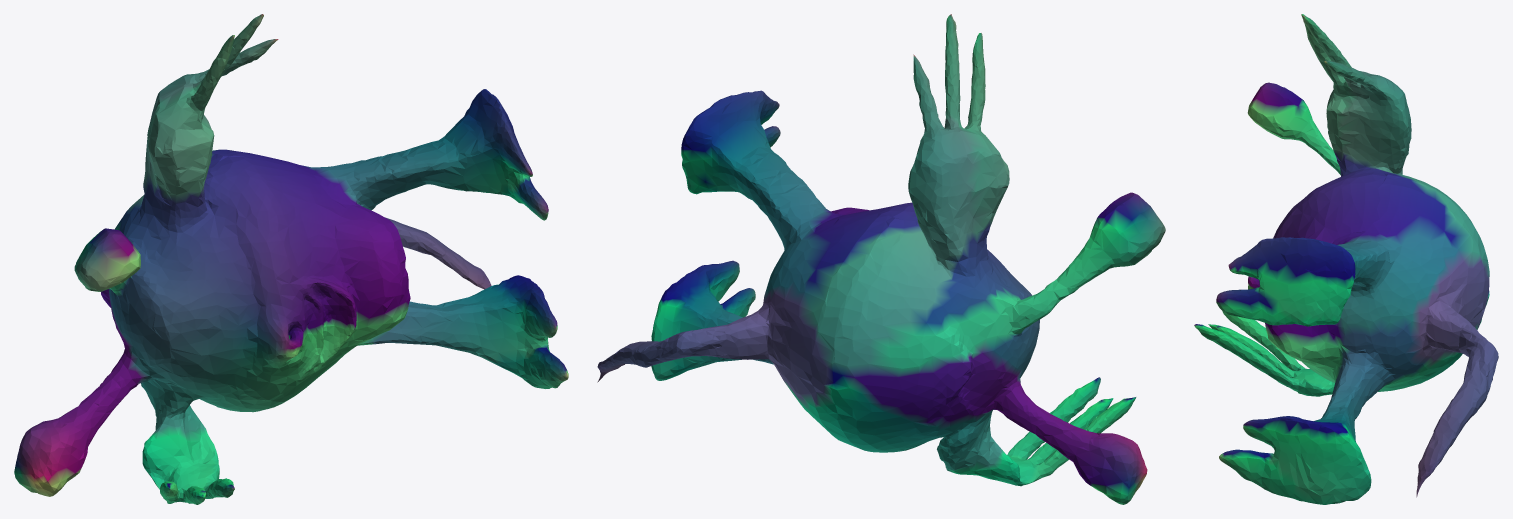
Rendered from alien-2.off.obj.
3 views of the same model, side by side, from view 1: azimuth 30°, elevation 25°; view 2: azimuth 150°, elevation 25°; view 3: azimuth 270°, elevation 25° (orthographic). The views are drawn at different scales.
Size of the model in its own units: 1.48 by 1.26 by 0.8653.
